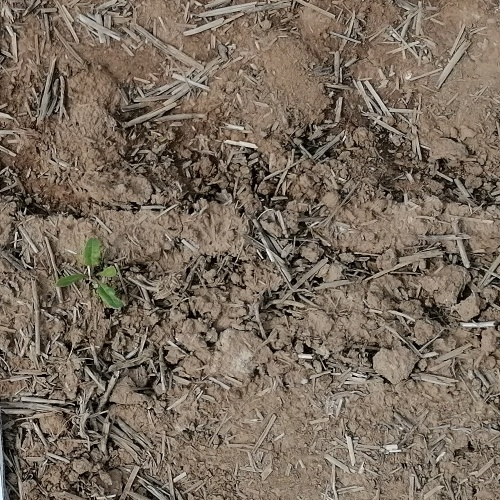beet: (55, 238, 126, 311)
